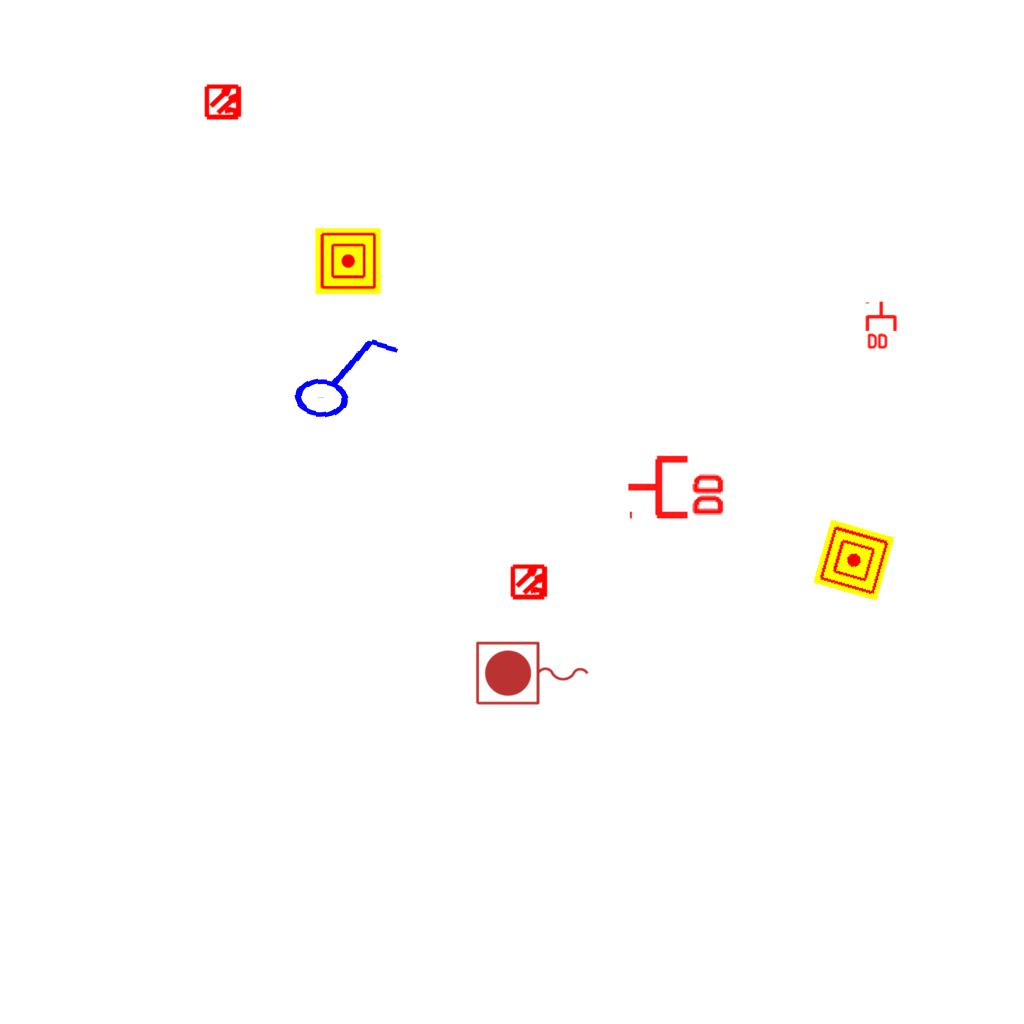Ausschalter: (281, 320, 403, 428)
Datenanschluss_zweifach: (625, 451, 728, 520), (865, 300, 899, 351)
NAM-Nichtautomatischer_Melder: (813, 519, 895, 601), (315, 228, 381, 294)
OT_Multisensormelder_(Kombination_RMO_WMD): (196, 74, 252, 130), (502, 554, 558, 610)
Zugtaster: (472, 638, 594, 710)
